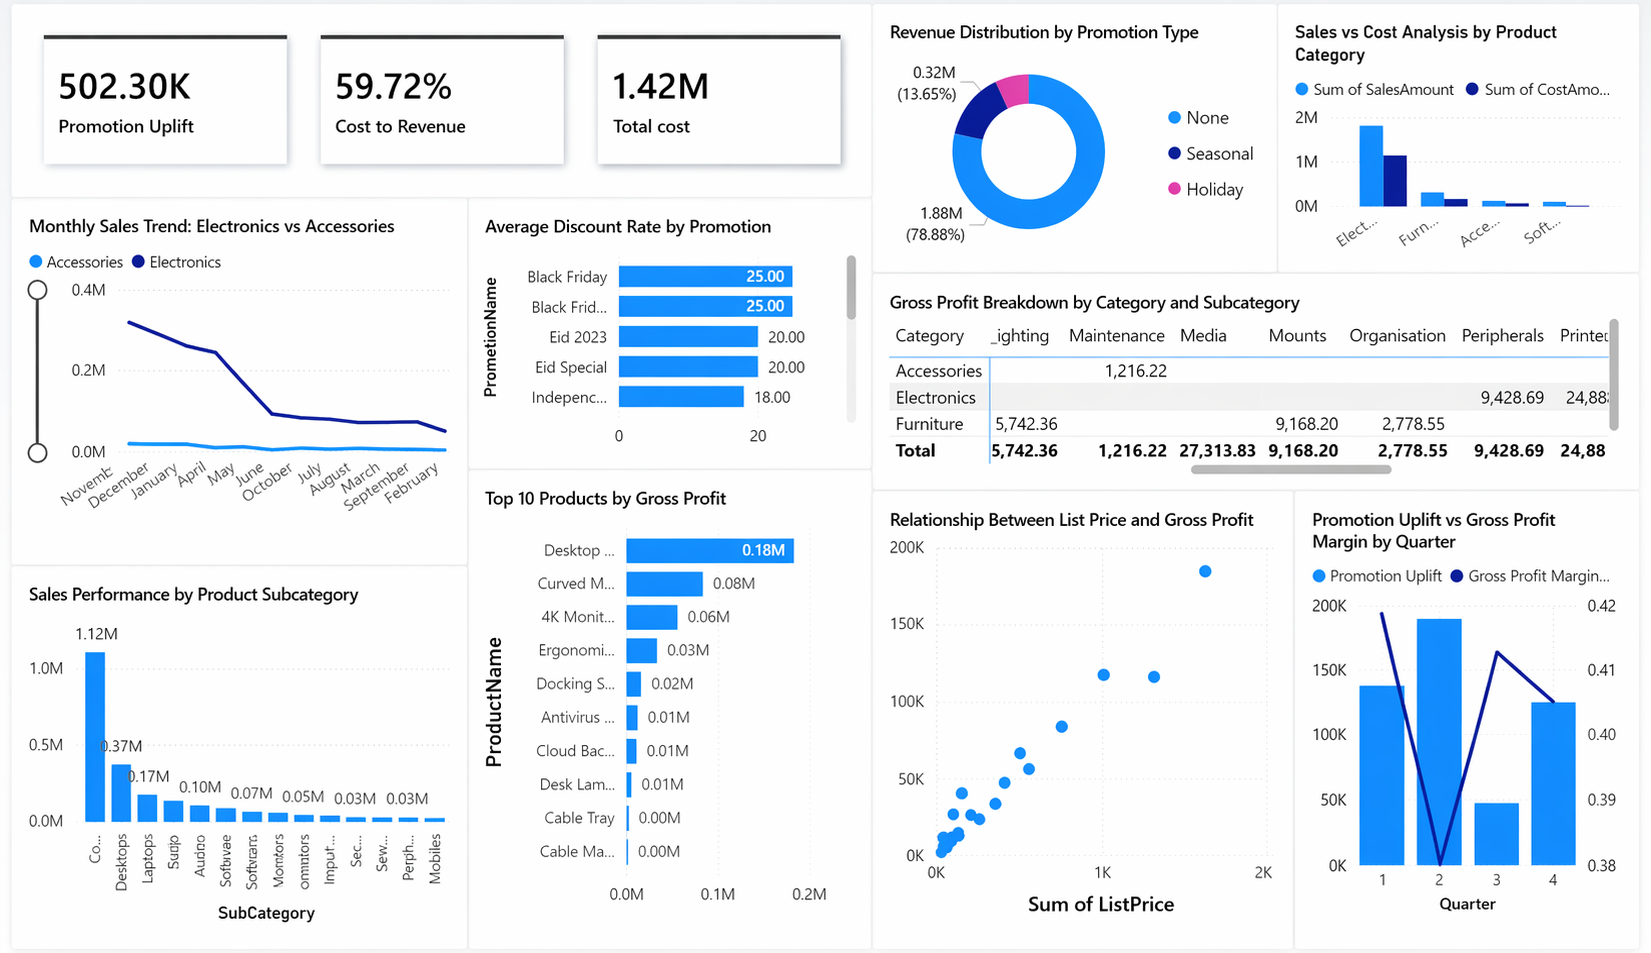

The page's visual inventory and layout, read from the dashboard file:
{"tool":"powerbi","page":{"name":"Page 1","canvas":[1280,720],"ordinal":0},"visuals":[{"type":"clusteredColumnChart","title":"Sales Performance by Product Subcategory","fields":{"Category":["DimProduct.SubCategory"],"Y":["Sum(FactSales.SalesAmount)"]},"box":[0,435.7,362.9,284.3],"z":0},{"type":"barChart","title":"Top 10 Products by Gross Profit","fields":{"Category":["DimProduct.ProductName"],"Y":["Sum(FactSales.GrossProfit)"]},"box":[362.9,360,320,360],"z":1000},{"type":"lineChart","title":"Monthly Sales Trend: Electronics vs Accessories","fields":{"Category":["DimDate.MonthName"],"Y":["Sum(FactSales.SalesAmount)"],"Series":["DimProduct.Category"]},"box":[0,148.6,362.9,287.1],"z":2000},{"type":"clusteredColumnChart","title":"Sales vs Cost Analysis by Product Category","fields":{"Category":["DimProduct.Category"],"Y":["Sum(FactSales.SalesAmount)","Sum(FactSales.CostAmount)"]},"box":[1002.9,0,275.7,208.6],"z":3000},{"type":"donutChart","title":"Revenue Distribution by Promotion Type","fields":{"Category":["DimPromotion.Category"],"Y":["Sum(FactSales.SalesAmount)"]},"box":[682.9,0,320,208.6],"z":4000},{"type":"cardVisual","fields":{"Data":["DAX Calculations.Promotion Uplift","DAX Calculations.Cost to Revenue","DAX Calculations.Total cost"]},"box":[0,0,682.9,148.6],"z":5000},{"type":"pivotTable","title":"Gross Profit Breakdown by Category and Subcategory","fields":{"Values":["Sum(FactSales.GrossProfit)"],"Rows":["DimProduct.Category"],"Columns":["DimProduct.SubCategory"]},"box":[682.3,207.9,596.6,168.5],"z":6000},{"type":"scatterChart","title":"Relationship Between List Price and Gross Profit","fields":{"X":["Sum(DimProduct.ListPrice)"],"Y":["Sum(FactSales.GrossProfit)"],"Category":["DimProduct.ProductName"]},"box":[682.3,377.8,334.3,342.5],"z":7000},{"type":"lineStackedColumnComboChart","title":"Promotion Uplift vs Gross Profit Margin by Quarter","fields":{"Y":["DAX Calculations.Promotion Uplift"],"Category":["DimDate.Quarter"],"Y2":["DAX Calculations.Gross Profit Margin %"]},"box":[1016.6,377.8,262.3,342.5],"z":8000},{"type":"barChart","title":"Average Discount Rate by Promotion","fields":{"Y":["Avg(FactSales.Discount%)"],"Category":["DimPromotion.PromotionName"]},"box":[362.9,148.1,319.4,212],"z":9000}]}

Visuals, with their boxes in screenshot pixels (x1, y1, x2, y2), scaled from the page's 1280x720 canvas onto the 1651x953 screenshot:
"Sales Performance by Product Subcategory" clusteredColumnChart: 0 577 468 952
"Top 10 Products by Gross Profit" barChart: 468 476 881 952
"Monthly Sales Trend: Electronics vs Accessories" lineChart: 0 197 468 577
"Sales vs Cost Analysis by Product Category" clusteredColumnChart: 1294 0 1649 276
"Revenue Distribution by Promotion Type" donutChart: 881 0 1294 276
cardVisual - DAX Calculations.Promotion Uplift x DAX Calculations.Cost to Revenue: 0 0 881 197
"Gross Profit Breakdown by Category and Subcategory" pivotTable: 880 275 1650 498
"Relationship Between List Price and Gross Profit" scatterChart: 880 500 1311 952
"Promotion Uplift vs Gross Profit Margin by Quarter" lineStackedColumnComboChart: 1311 500 1650 952
"Average Discount Rate by Promotion" barChart: 468 196 880 477
